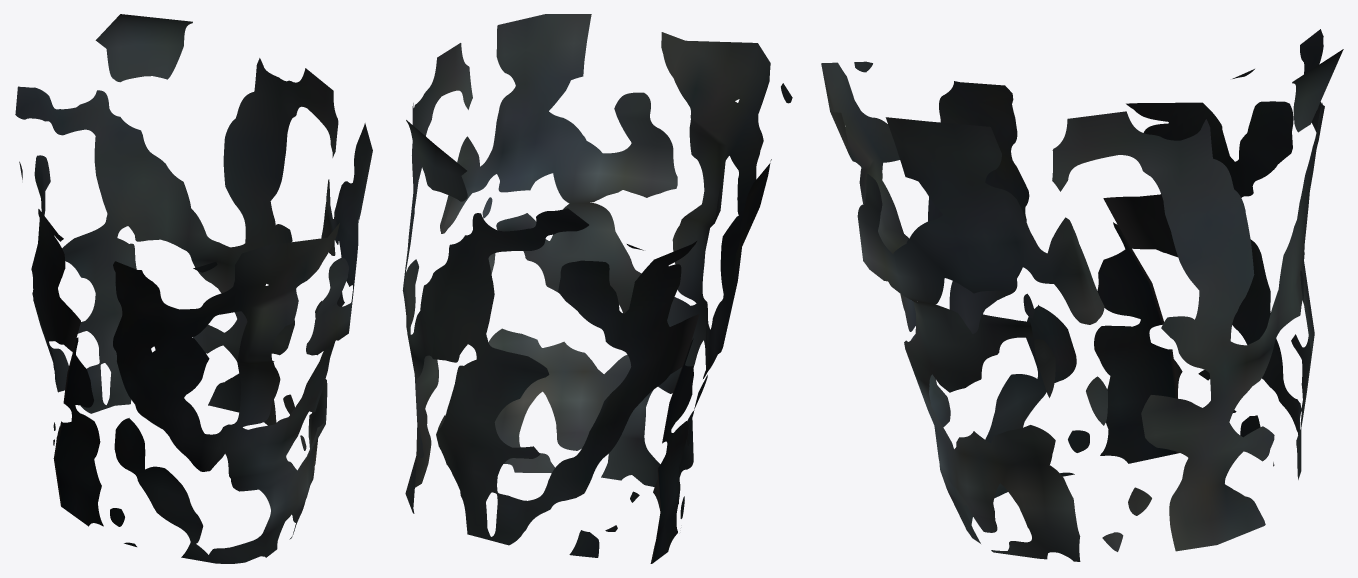
File: TopLeftLeg.obj
The picture shows the model from 3 angles, left to right: view 1: azimuth 30°, elevation 25°; view 2: azimuth 150°, elevation 25°; view 3: azimuth 270°, elevation 25°; orthographic projection. The views are drawn at different scales.
Visible parts, largest first — view 1: rdmobj00.003; view 2: rdmobj00.003; view 3: rdmobj00.003.
Part boxes in pixels (<box>): rdmobj00.003: <box>15,14,372,563</box>; rdmobj00.003: <box>402,14,792,563</box>; rdmobj00.003: <box>821,29,1343,561</box>.
Size of the model in its own units: 0.865 by 1.36 by 1.3.
1 material, 1 textured.
